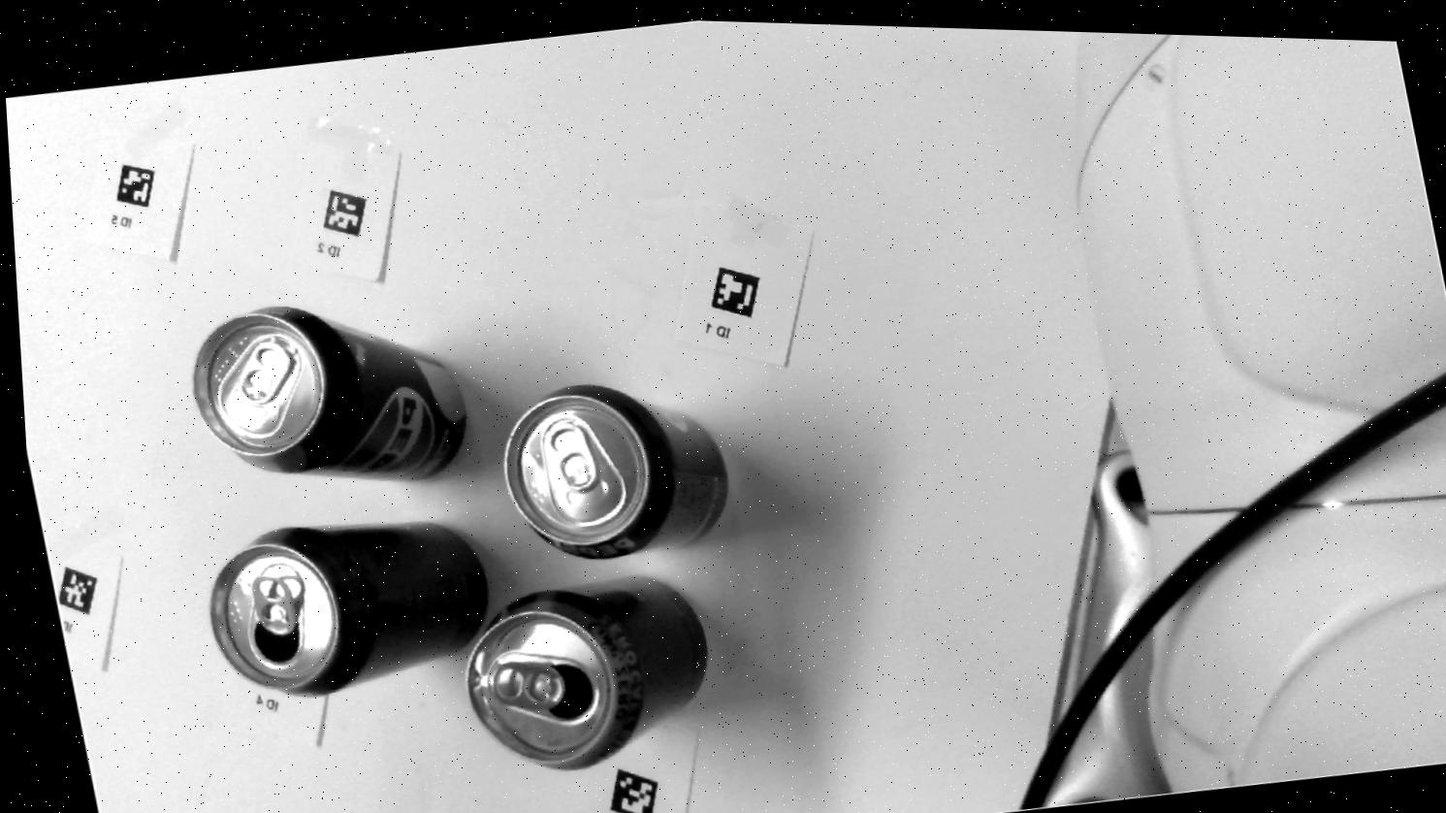can_coke_decaf: (466, 578, 706, 769)
can_coke_zero: (209, 523, 487, 694)
can_pepsi: (505, 384, 727, 558)
can_pepsi_zero: (193, 306, 467, 479)
